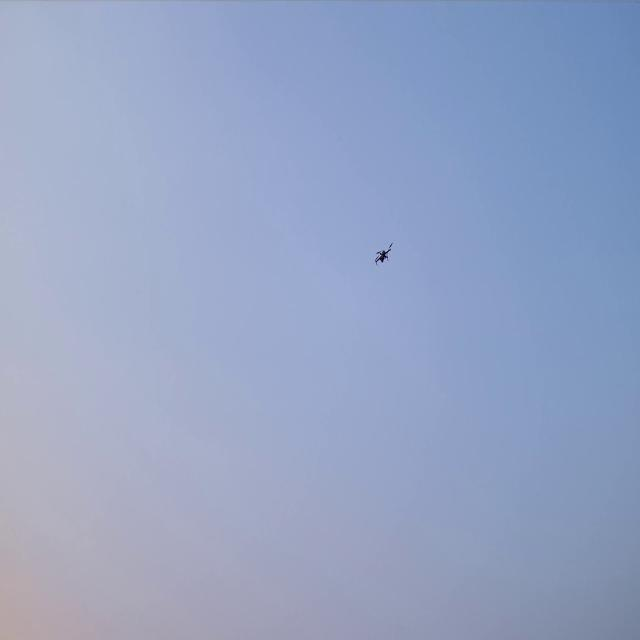UAV: (373, 240, 393, 266)
